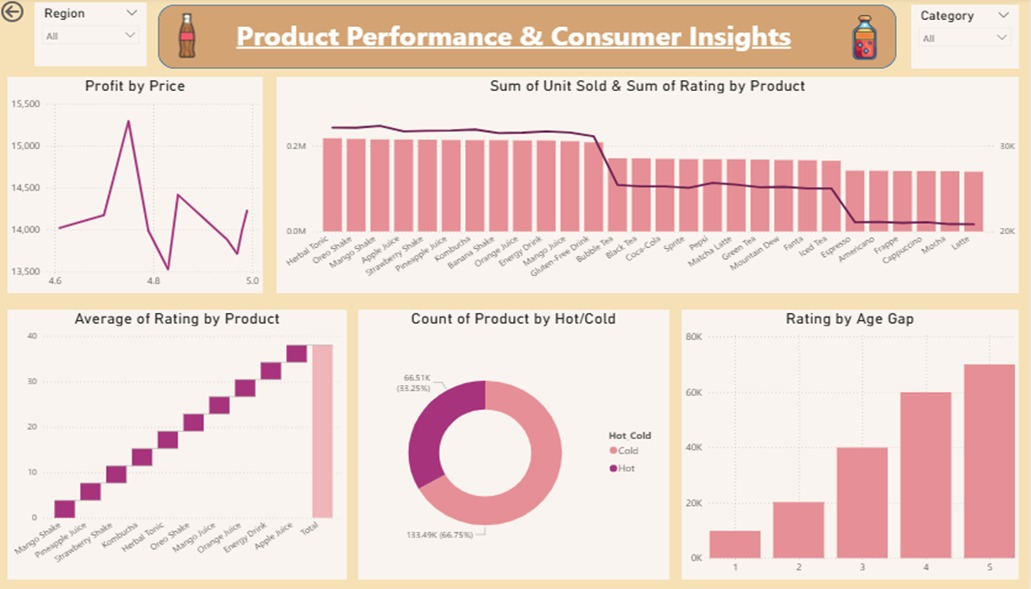

This screenshot's page, from the dashboard's own definition file:
{"tool":"powerbi","page":{"name":"Page 2","canvas":[1400,850],"ordinal":1},"visuals":[{"type":"actionButton","box":[0,0,100,40],"z":0},{"type":"lineChart","title":"Profit by Price","fields":{"Category":["beverages_data.Price_USD"],"Y":["Sum(beverages_data.Profit_USD)"]},"box":[13.4,113.8,346.4,311.2],"z":1000},{"type":"waterfallChart","fields":{"Category":["beverages_data.Product"],"Y":["Avg(beverages_data.Rating)"]},"box":[13.4,448.4,460.1,388.2],"z":2000},{"type":"donutChart","title":"Count of Product by Hot/Cold","fields":{"Category":["beverages_data.Hot_Cold"],"Y":["CountNonNull(beverages_data.Product)"]},"box":[488.6,448.4,421.7,388.2],"z":3000},{"type":"columnChart","title":"Rating by Age Gap","fields":{"Category":["beverages_data.Rating"],"Y":["CountNonNull(beverages_data.Customer_Age_Group)"]},"box":[927,448.4,456.8,388.2],"z":4000},{"type":"lineStackedColumnComboChart","title":"Sum of Unit Sold & Sum of Rating by Product","fields":{"Category":["beverages_data.Product"],"Y":["Sum(beverages_data.Unit_Sold)"],"Y2":["Sum(beverages_data.Rating)"]},"box":[378.1,113.8,1005.6,311.2],"z":5000},{"type":"image","box":[333,0,92,107.1],"z":6000},{"type":"slicer","fields":{"Values":["beverages_data.Region"]},"box":[50.2,6.7,152.3,92],"z":7000},{"type":"slicer","fields":{"Values":["beverages_data.Category"]},"box":[1238.2,10,145.6,92],"z":8000},{"type":"shape","box":[217.5,10,1000.6,92],"z":9000},{"type":"textbox","box":[302.9,23.4,793.1,66.9],"z":10000},{"type":"image","box":[1132.8,20.1,85.3,73.6],"z":11000},{"type":"image","box":[210.8,0,92,107.1],"z":12000}]}

Visuals, with their boxes on the page's 1400x850 design canvas (x1, y1, x2, y2). These are canvas units, not pixel positions in the 1031x589 screenshot, which may show the page scaled, cropped or inside an application window:
actionButton: [left=0, top=0, right=100, bottom=40]
"Profit by Price" lineChart: [left=13, top=114, right=360, bottom=425]
waterfallChart - beverages_data.Product x Avg(beverages_data.Rating): [left=13, top=448, right=474, bottom=837]
"Count of Product by Hot/Cold" donutChart: [left=489, top=448, right=910, bottom=837]
"Rating by Age Gap" columnChart: [left=927, top=448, right=1384, bottom=837]
"Sum of Unit Sold & Sum of Rating by Product" lineStackedColumnComboChart: [left=378, top=114, right=1384, bottom=425]
image: [left=333, top=0, right=425, bottom=107]
slicer - beverages_data.Region: [left=50, top=7, right=202, bottom=99]
slicer - beverages_data.Category: [left=1238, top=10, right=1384, bottom=102]
shape: [left=218, top=10, right=1218, bottom=102]
textbox: [left=303, top=23, right=1096, bottom=90]
image: [left=1133, top=20, right=1218, bottom=94]
image: [left=211, top=0, right=303, bottom=107]
